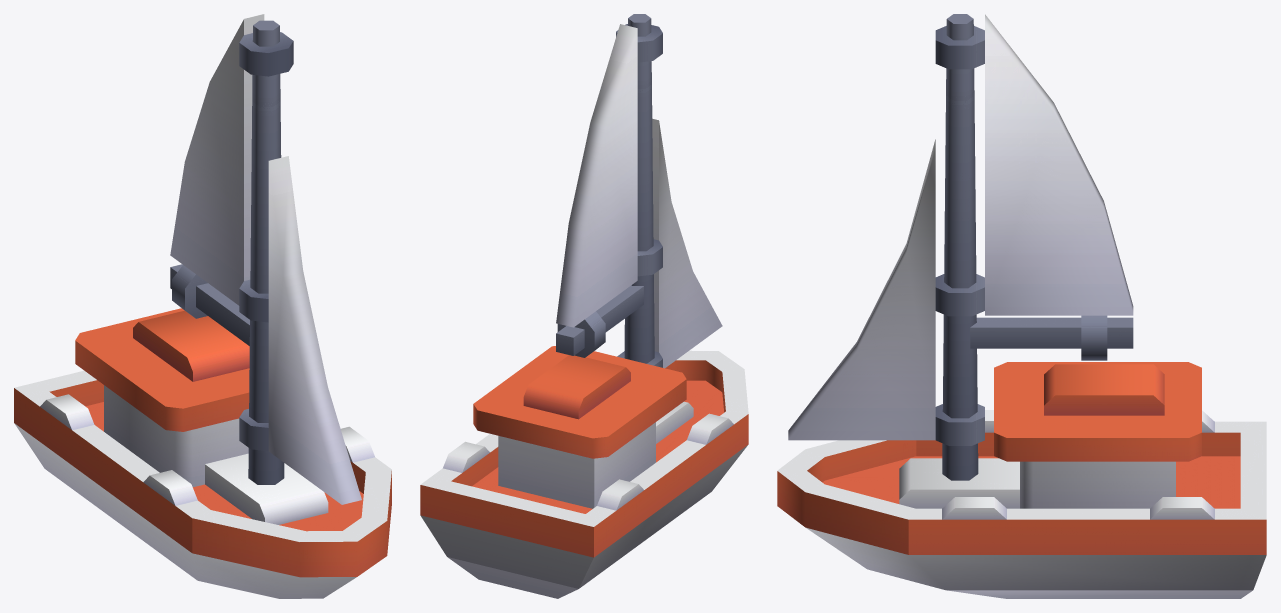
File: boat-sail-a-transformed-transformed.glb
3 renders of one model, left to right at view 1: azimuth 30°, elevation 25°; view 2: azimuth 150°, elevation 25°; view 3: azimuth 270°, elevation 25°, orthographic. The views are drawn at different scales.
Visible parts, largest first — view 1: boat-sail-a, sail; view 2: boat-sail-a, sail; view 3: boat-sail-a, sail.
Part boxes in pixels (x1,y1,x2,y2): boat-sail-a: (14, 308, 391, 598); sail: (170, 14, 361, 504); boat-sail-a: (420, 346, 748, 598); sail: (556, 14, 722, 368); boat-sail-a: (777, 362, 1266, 598); sail: (788, 14, 1133, 480).
Bounding box in the file's own units: 1.79 × 4.74 × 3.77.
1 material, 1 textured.
